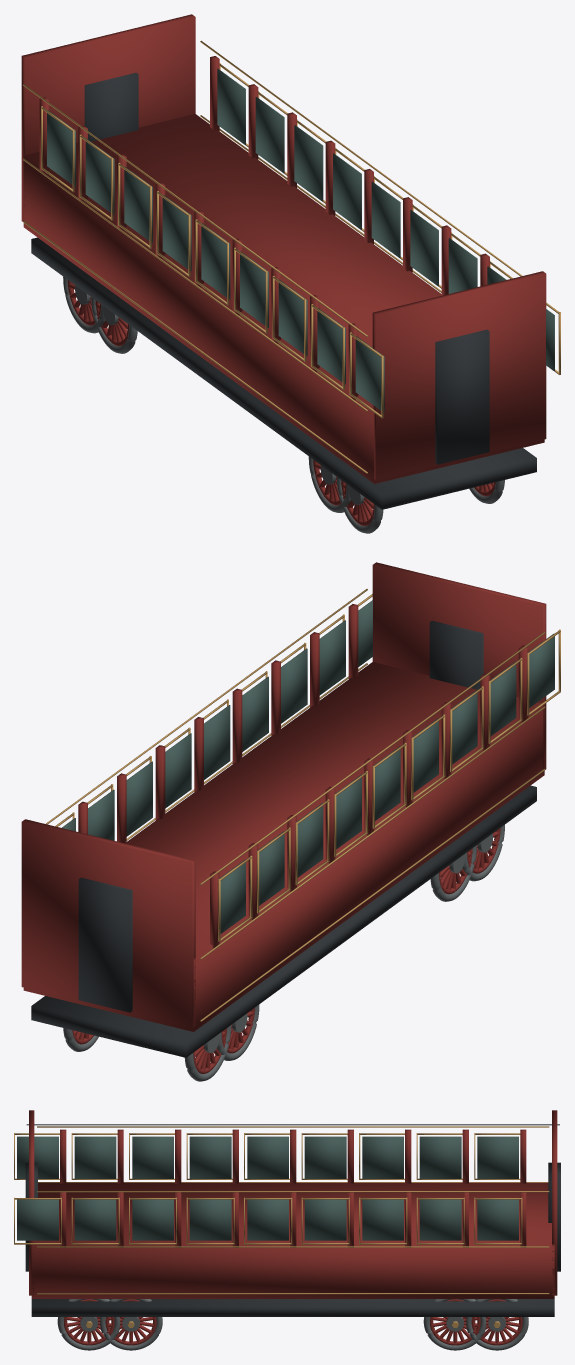
Rendered from carriage.glb.
The picture shows the model from 3 angles, top to bottom: view 1: azimuth 30°, elevation 25°; view 2: azimuth 150°, elevation 25°; view 3: azimuth 270°, elevation 25°; orthographic projection. The views are drawn at different scales.
Parts seen in each view (by area): view 1: carriage_scarlet.001, carriage_glass.001, carriage_black.001, carriage_brass.001, carriage_steel.001; view 2: carriage_scarlet.001, carriage_glass.001, carriage_black.001, carriage_brass.001, carriage_steel.001; view 3: carriage_scarlet.001, carriage_glass.001, carriage_black.001, carriage_brass.001, carriage_steel.001.
Boxes of the visible parts, x1,y1,x2,y2 form: carriage_scarlet.001: [21, 14, 546, 525]; carriage_glass.001: [47, 68, 554, 412]; carriage_black.001: [31, 73, 536, 509]; carriage_brass.001: [23, 40, 560, 473]; carriage_steel.001: [63, 276, 504, 533]; carriage_scarlet.001: [21, 562, 546, 1073]; carriage_glass.001: [62, 600, 554, 933]; carriage_black.001: [31, 620, 536, 1057]; carriage_brass.001: [46, 589, 560, 1021]; carriage_steel.001: [63, 825, 504, 1081]; carriage_scarlet.001: [29, 1110, 557, 1345]; carriage_glass.001: [17, 1136, 518, 1240]; carriage_black.001: [25, 1124, 560, 1316]; carriage_brass.001: [14, 1126, 549, 1327]; carriage_steel.001: [57, 1299, 528, 1350].
Bounding box in the file's own units: 3 × 4.02 × 10.46.
